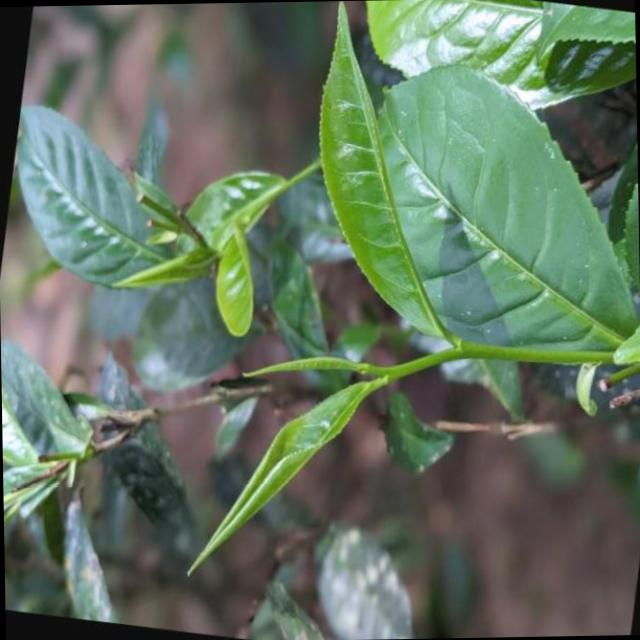Stem: (391, 350, 438, 379)
